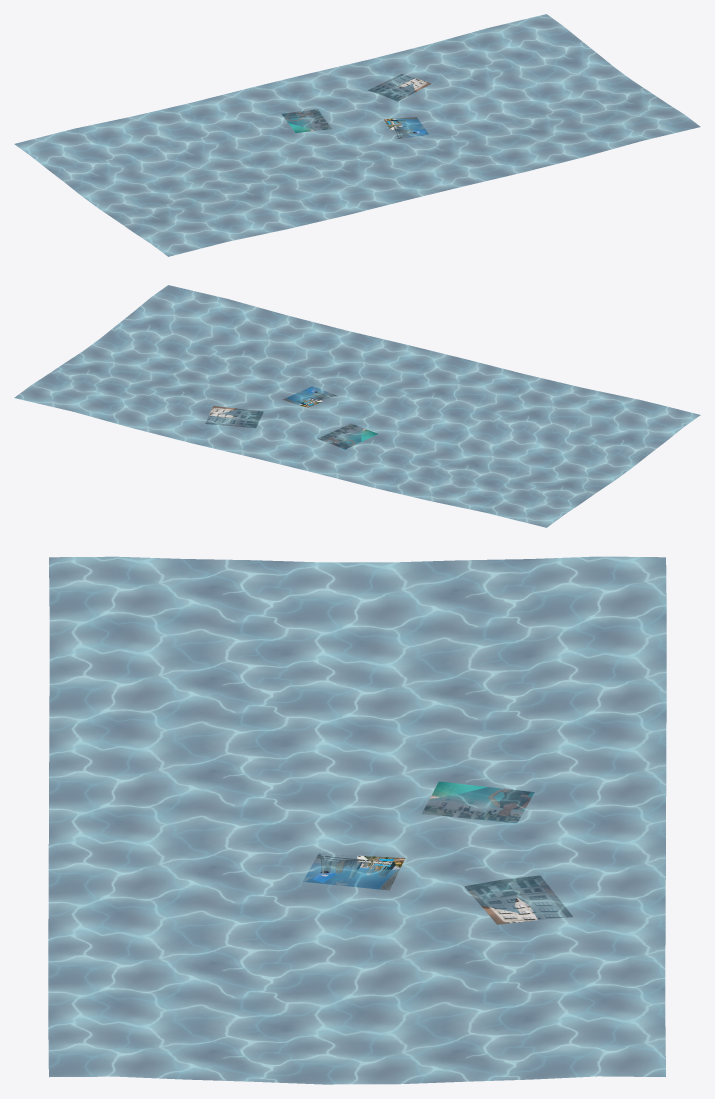
Rendered from DCL_ ART Penthouse_Pool Surface_Final Details.glb.
The picture shows the model from 3 angles, top to bottom: view 1: azimuth 30°, elevation 25°; view 2: azimuth 150°, elevation 25°; view 3: azimuth 270°, elevation 25°; orthographic projection. The views are drawn at different scales.
Parts seen in each view (by area): view 1: Pool Surface; view 2: Pool Surface; view 3: Pool Surface.
Part boxes in pixels (x1=…): Pool Surface: x1=14, y1=14, x2=700, y2=256; Pool Surface: x1=14, y1=285, x2=700, y2=527; Pool Surface: x1=48, y1=556, x2=666, y2=1084.
Bounding box in the file's own units: 6.08 × 0.0858 × 3.05.
Materials: 2 (2 with a texture image).
